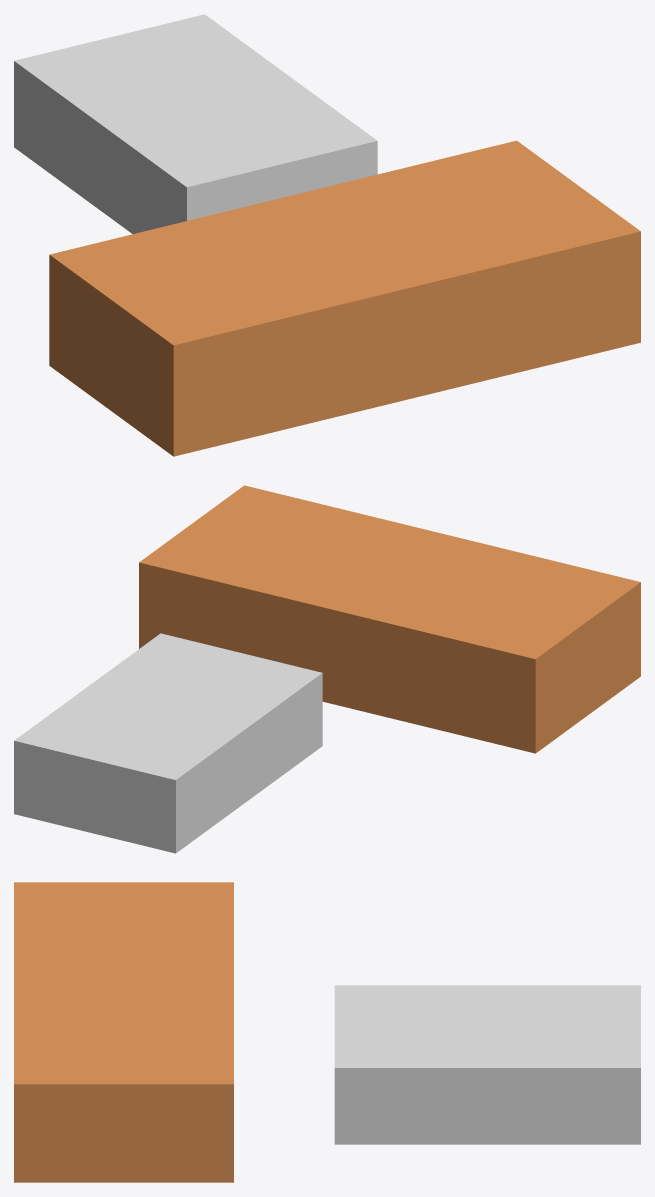
3 renders of one model, top to bottom at view 1: azimuth 30°, elevation 25°; view 2: azimuth 150°, elevation 25°; view 3: azimuth 270°, elevation 25°, orthographic. The views are drawn at different scales.
Visible parts, largest first — view 1: Cube, Cube.002; view 2: Cube, Cube.002; view 3: Cube, Cube.002.
Boxes of the visible parts, left/top/right/bottom form: Cube: left=49, top=140, right=640, bottom=456; Cube.002: left=14, top=14, right=377, bottom=233; Cube: left=139, top=485, right=640, bottom=753; Cube.002: left=14, top=633, right=322, bottom=853; Cube: left=14, top=882, right=233, bottom=1182; Cube.002: left=334, top=985, right=640, bottom=1144.
Size of the model in its own units: 118 by 26.94 by 155.
